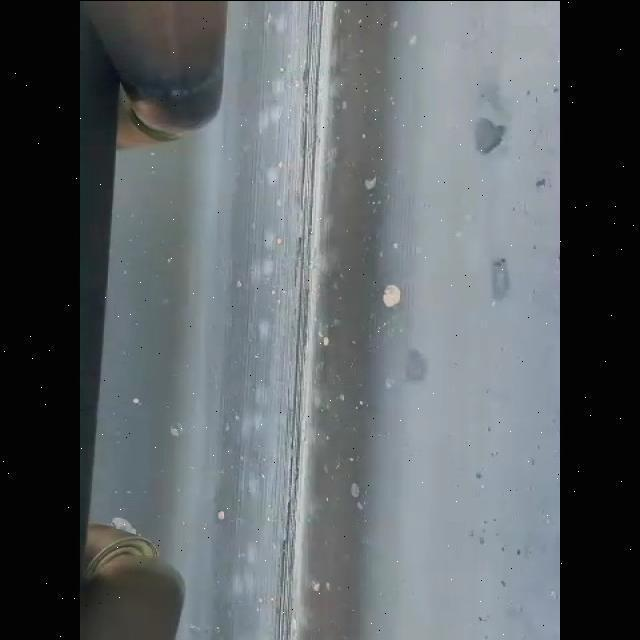Wear: (265, 0, 333, 640)
